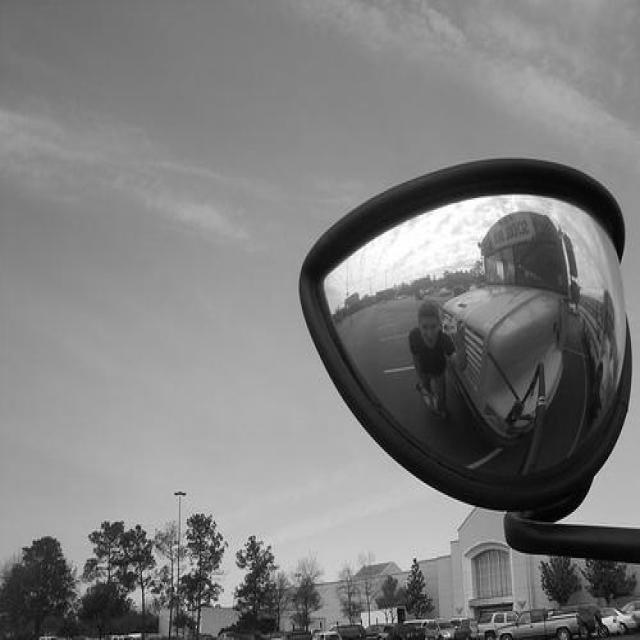vehicle: (442, 212, 582, 451), (494, 607, 580, 639), (549, 607, 596, 640), (476, 609, 520, 639), (358, 606, 406, 630), (391, 619, 426, 640), (331, 621, 368, 640), (613, 608, 637, 633), (329, 624, 366, 640), (456, 618, 479, 640), (599, 611, 619, 636), (436, 621, 457, 639), (376, 623, 398, 640), (621, 601, 640, 620), (315, 630, 343, 640)
